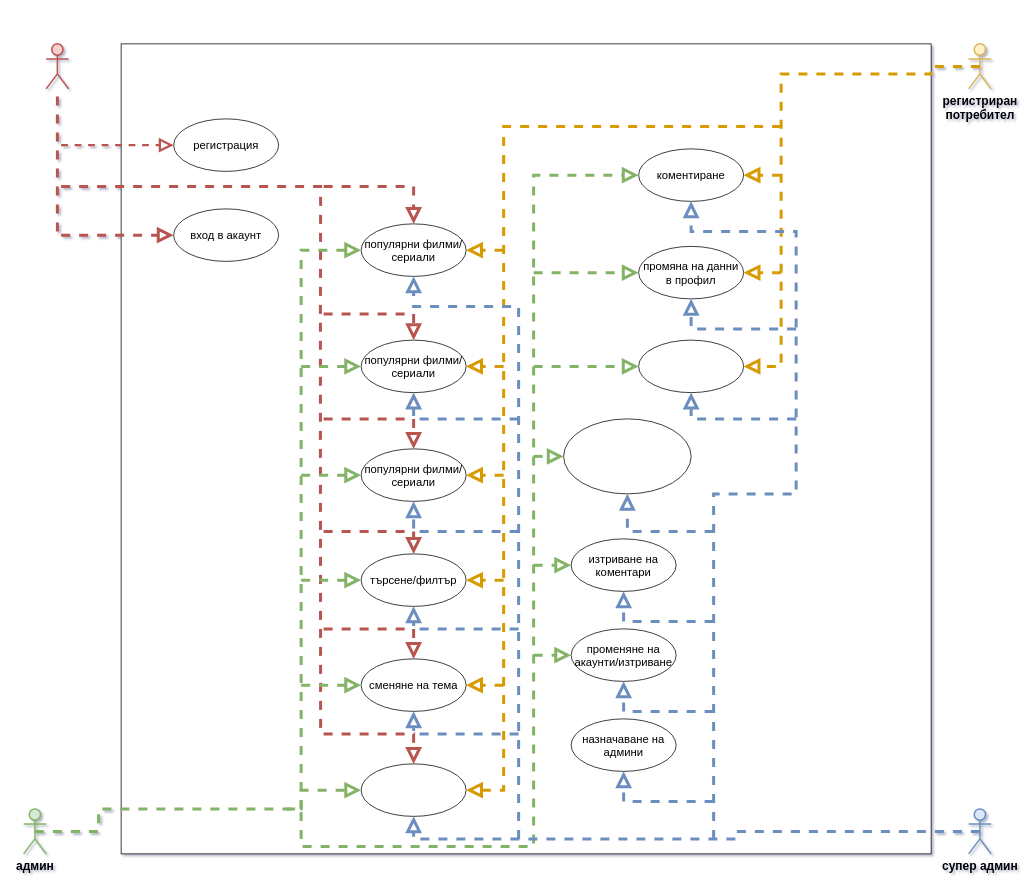
This 1035x890 diagram has some shape labels left out. Each missing label, with the box of its shape:
нерегистриран потребител: (45, 43, 69, 89)
променяне/изтриване на филми/сериали: (563, 418, 691, 494)
реагиране на филм/сериал: (638, 339, 744, 393)
сменяне на език: (360, 763, 466, 816)
